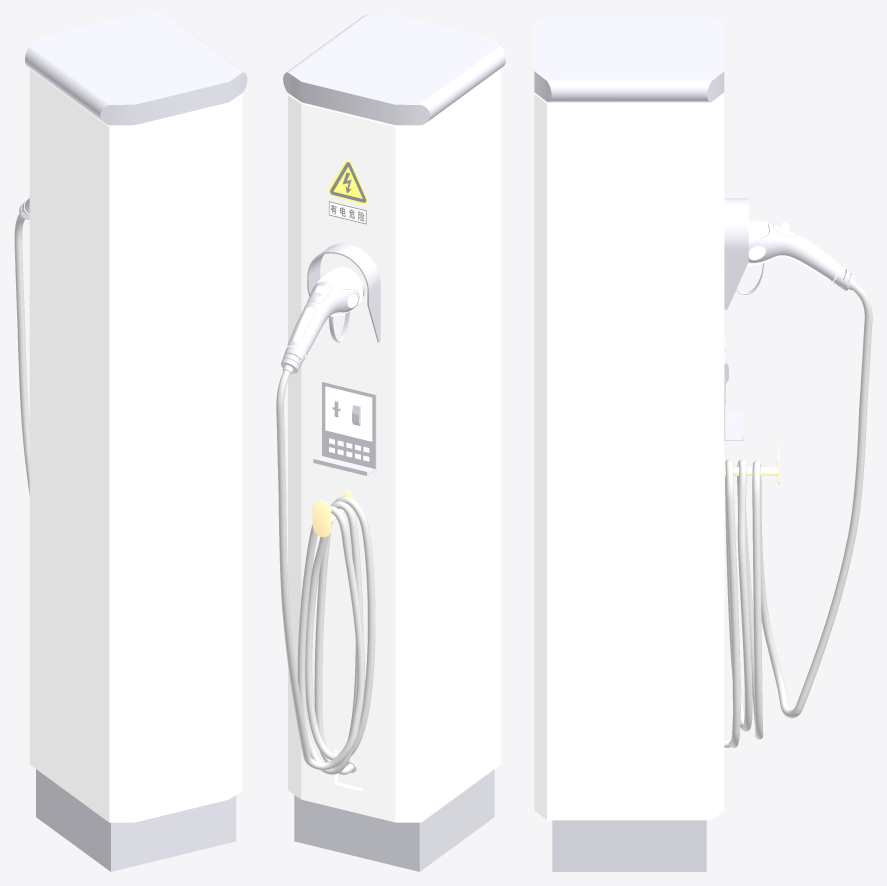
Rendered from Charging_Station.glb.
3 renders of one model, left to right at view 1: azimuth 30°, elevation 25°; view 2: azimuth 150°, elevation 25°; view 3: azimuth 270°, elevation 25°, orthographic. The views are drawn at different scales.
Parts seen in each view (by area): view 1: Charging_Station; view 2: Charging_Station; view 3: Charging_Station.
Boxes of the visible parts, box(x1,y1,x2,y2) form: Charging_Station: box(14, 14, 247, 871); Charging_Station: box(276, 14, 505, 871); Charging_Station: box(534, 14, 872, 871).
Bounding box in the file's own units: 0.3 × 1.5 × 0.58.
Materials: 6 (1 with a texture image).
